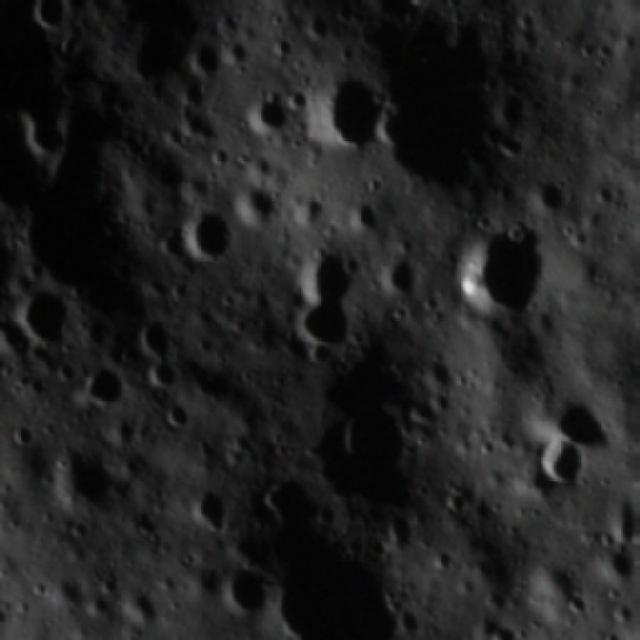crater: (258, 514, 418, 640), (452, 212, 556, 322), (312, 59, 393, 161), (338, 392, 431, 476), (52, 433, 123, 512), (288, 292, 364, 365), (282, 239, 358, 299), (549, 390, 616, 450), (18, 281, 77, 339), (541, 430, 596, 490), (218, 558, 272, 619), (241, 83, 297, 139), (183, 208, 242, 260), (184, 475, 233, 533), (86, 352, 137, 405), (138, 314, 190, 355), (144, 353, 191, 392), (162, 390, 200, 432), (186, 35, 225, 73), (176, 76, 218, 110), (0, 581, 18, 640), (12, 415, 40, 451)
